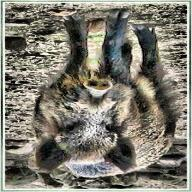boar: (30, 2, 180, 192)
